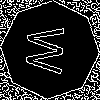W: (25, 25, 74, 76)
